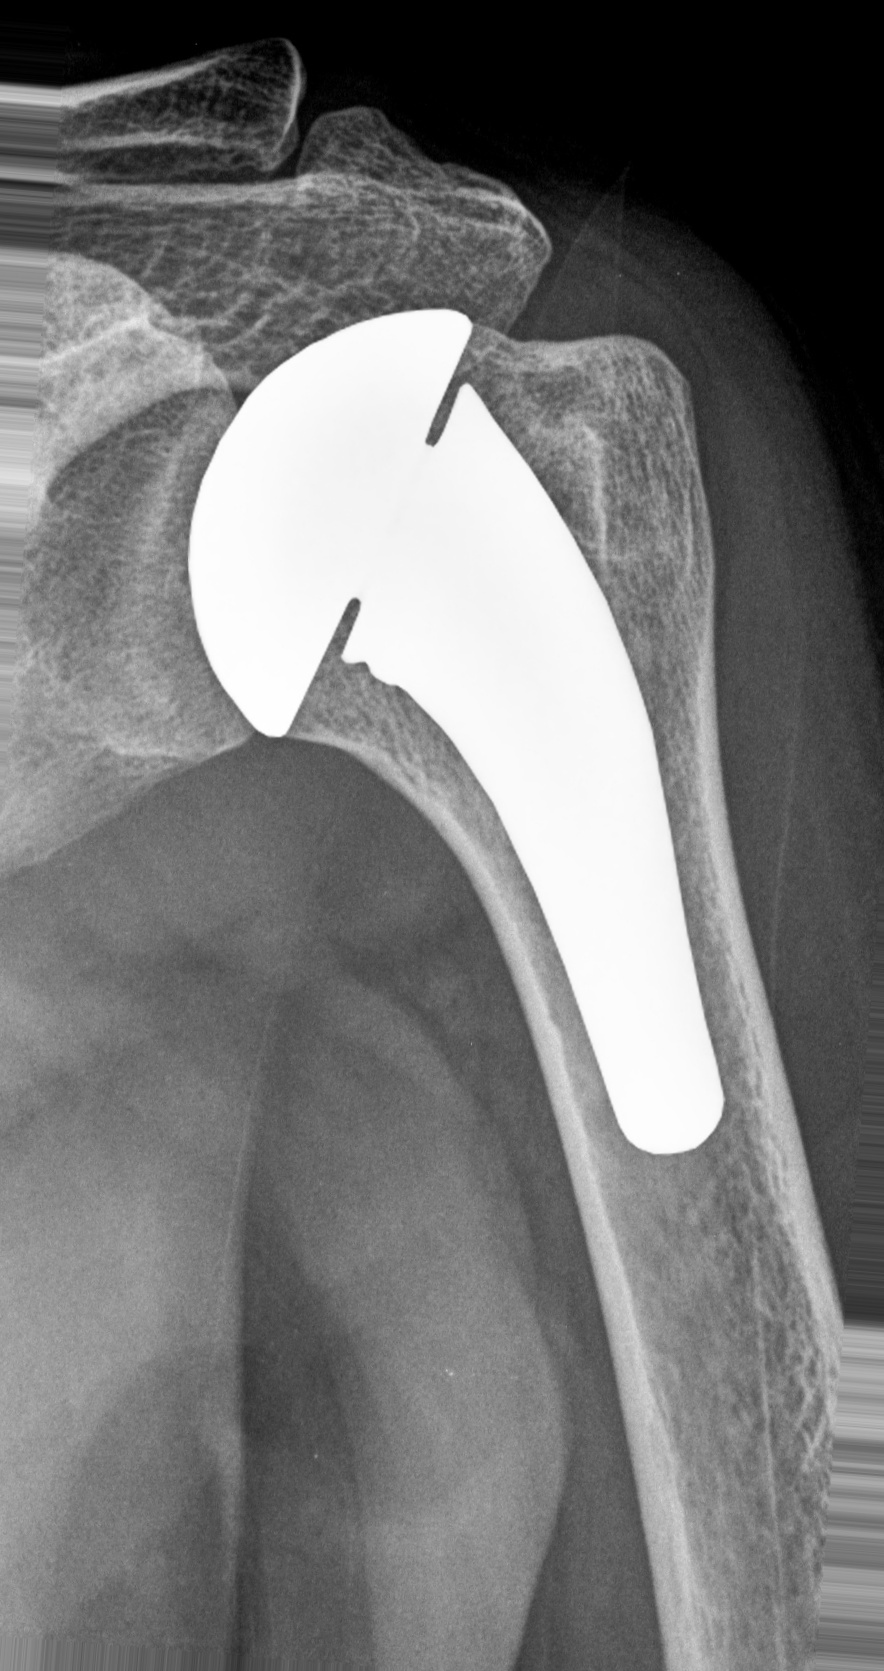Shoulder - AequalisAscendFlex - Tornier: (173, 286, 480, 754)
